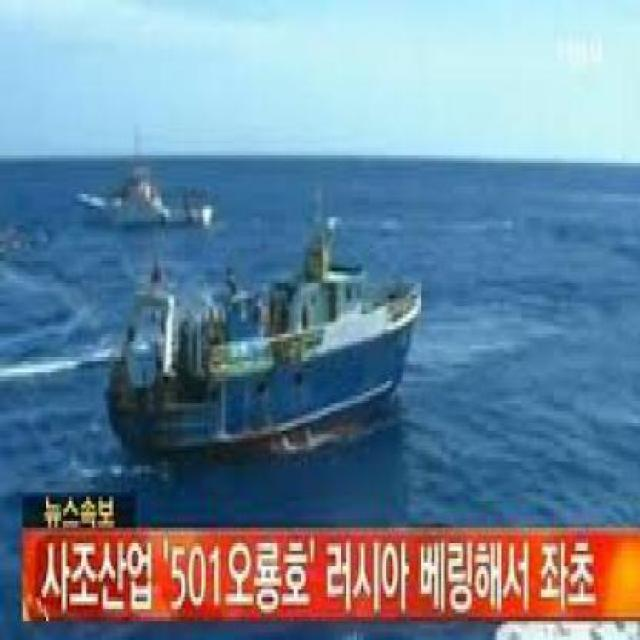fish-b: (96, 214, 436, 451)
